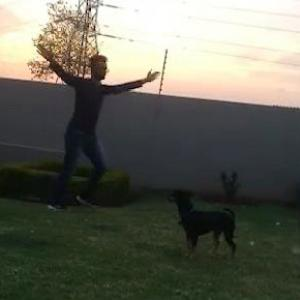takeoff: (39, 46, 160, 200)
